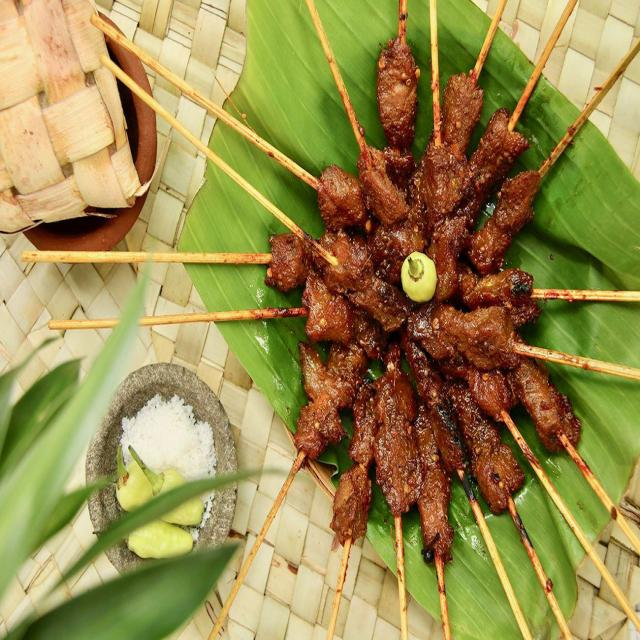Sate: (115, 40, 623, 613)
